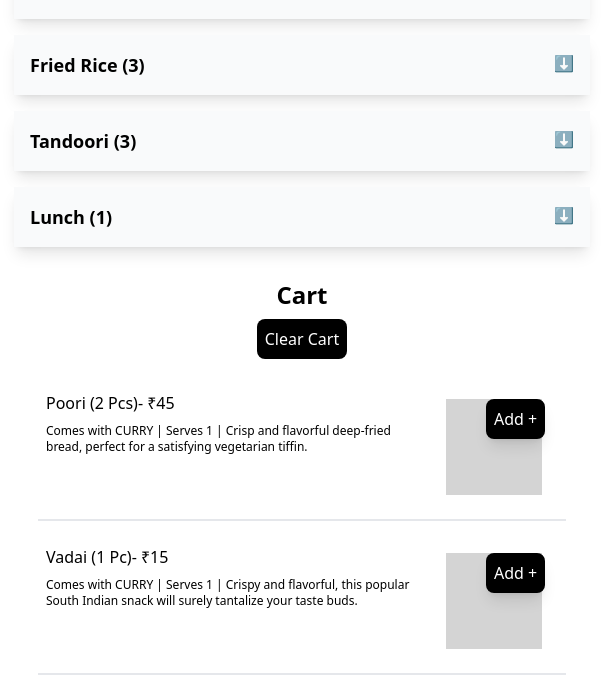
Test: Should check whether Cart page is rendered correctly with the items added in the cart
The image size is (605, 692).
(page scrolled)
What coordinates should you click on to do the following:
click the button "Clear Cart"
I would click on:
 (302, 339)
Its box is [257,319,347,359].
(page scrolled)
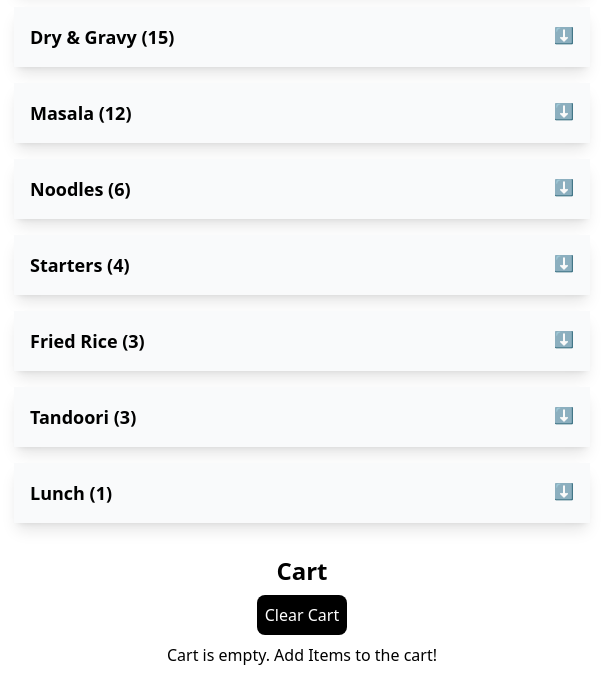
expect the heading "Cart is empty. Add Items to the cart!" is shown: met, box [167,644,437,666]
